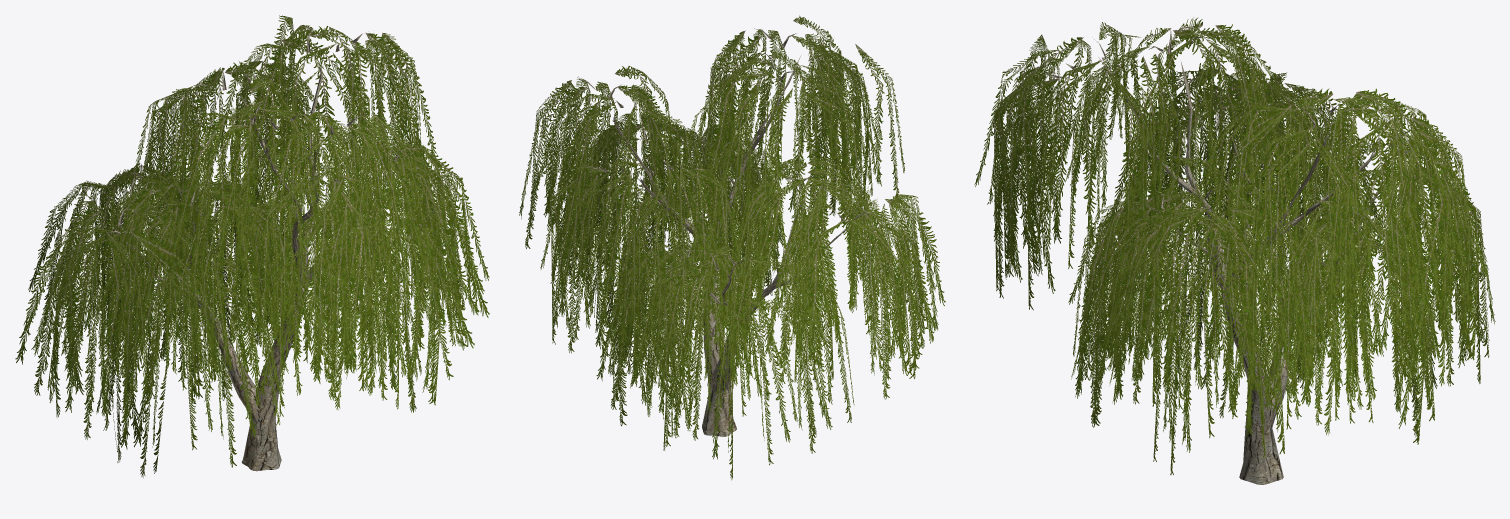
The model's file is willow-far.glb.
3 views of the same model, side by side, from view 1: azimuth 30°, elevation 25°; view 2: azimuth 150°, elevation 25°; view 3: azimuth 270°, elevation 25° (orthographic). The views are drawn at different scales.
Visible parts, largest first — view 1: willow branch_1, bark10_0; view 2: willow branch_1, bark10_0; view 3: willow branch_1, bark10_0.
Part boxes in pixels (<box>): willow branch_1: <box>15,15,489,477</box>; bark10_0: <box>106,31,410,471</box>; willow branch_1: <box>519,15,945,480</box>; bark10_0: <box>579,28,870,436</box>; willow branch_1: <box>974,17,1495,474</box>; bark10_0: <box>1038,30,1425,484</box>.
Bounding box in the file's own units: 8.3 × 7.73 × 8.1.
2 materials, 2 textured.
